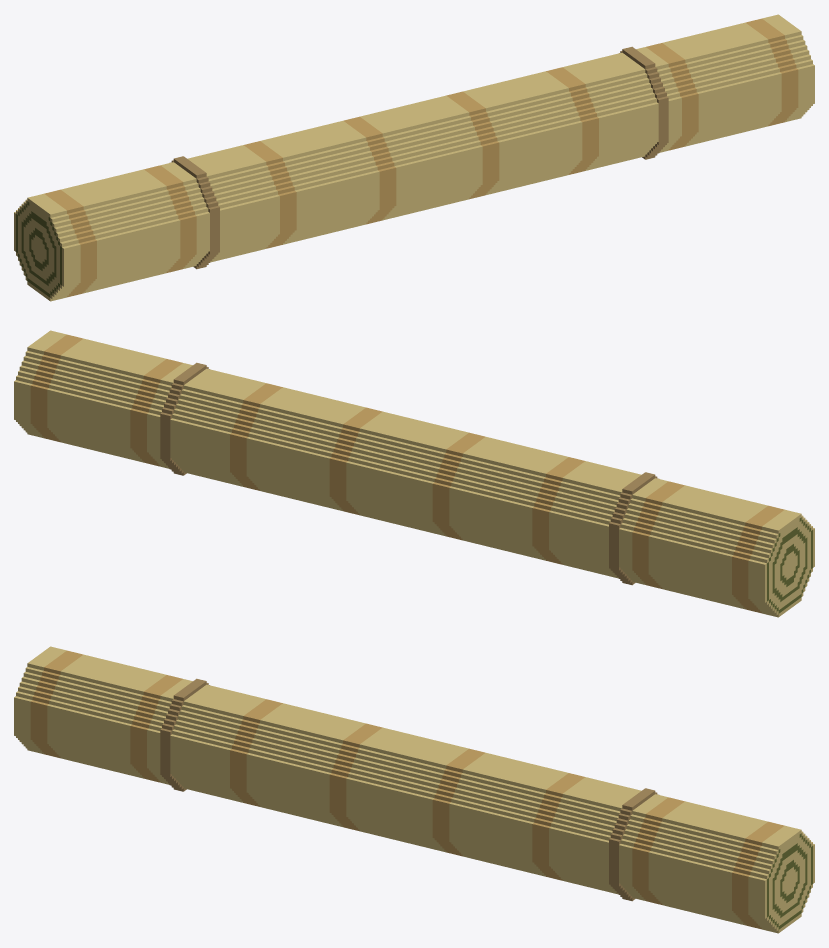
Rendered from fiber_mat.glb.
3 views of the same model, one above another, from view 1: azimuth 30°, elevation 25°; view 2: azimuth 150°, elevation 25°; view 3: azimuth 330°, elevation 25° (orthographic).
Parts seen in each view (by area): view 1: fiber_mat:compound; view 2: fiber_mat:compound; view 3: fiber_mat:compound.
Boxes of the visible parts, x1,y1,x2,y2 form: fiber_mat:compound: (14, 14, 814, 301); fiber_mat:compound: (14, 330, 814, 617); fiber_mat:compound: (14, 646, 814, 933).
Bounding box in the file's own units: 0.904 × 0.108 × 0.104.
